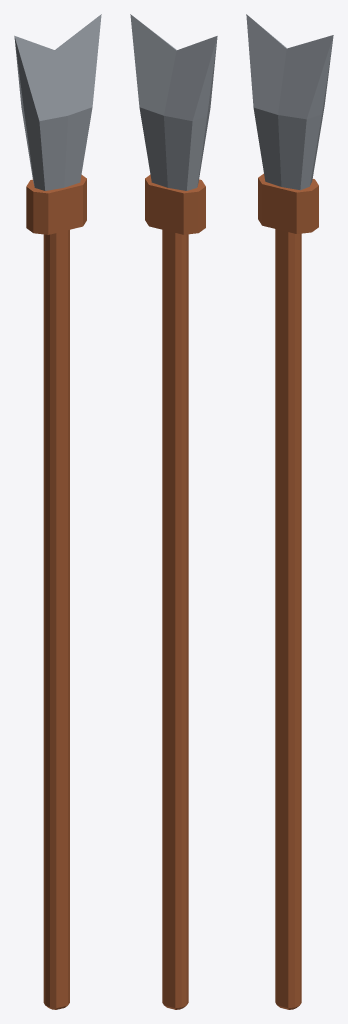
Rendered from Spear_2.fbx.
The picture shows the model from 3 angles, left to right: view 1: azimuth 30°, elevation 25°; view 2: azimuth 150°, elevation 25°; view 3: azimuth 330°, elevation 25°; orthographic projection.
Visible parts, largest first — view 1: Spear_2; view 2: Spear_2; view 3: Spear_2.
Part boxes in pixels (x1,y1,x2,y2): Spear_2: (14,14,101,1009); Spear_2: (130,14,217,1009); Spear_2: (246,14,333,1009).
Size of the model in its own units: 13.76 by 148 by 6.05.
